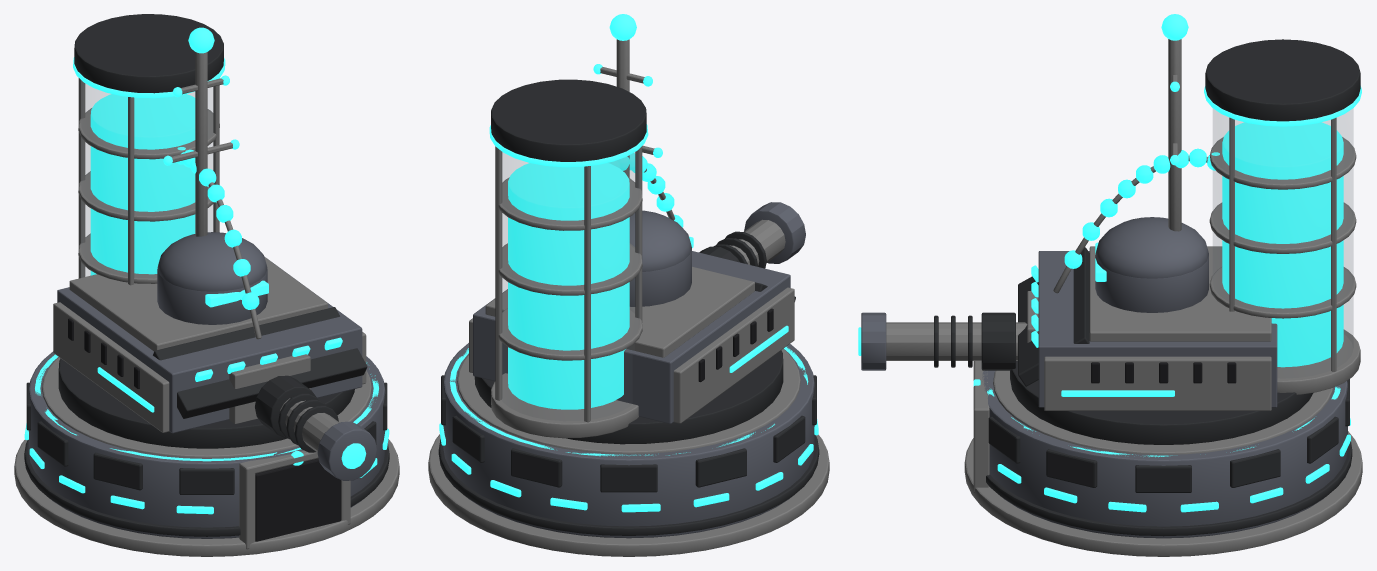
Rendered from Machinegoon_T1.glb.
3 renders of one model, left to right at view 1: azimuth 30°, elevation 25°; view 2: azimuth 150°, elevation 25°; view 3: azimuth 270°, elevation 25°, orthographic. The views are drawn at different scales.
Visible parts, largest first — view 1: Machinegoon_T1_Turret, Machinegoon_T1_Base; view 2: Machinegoon_T1_Turret, Machinegoon_T1_Base; view 3: Machinegoon_T1_Turret, Machinegoon_T1_Base.
Part boxes in pixels (<box>): Machinegoon_T1_Turret: <box>53,14,376,480</box>; Machinegoon_T1_Base: <box>14,351,399,556</box>; Machinegoon_T1_Turret: <box>469,14,805,444</box>; Machinegoon_T1_Base: <box>428,343,829,556</box>; Machinegoon_T1_Turret: <box>858,14,1361,444</box>; Machinegoon_T1_Base: <box>964,361,1362,556</box>.
Bounding box in the file's own units: 3.5 × 4.45 × 4.44.
